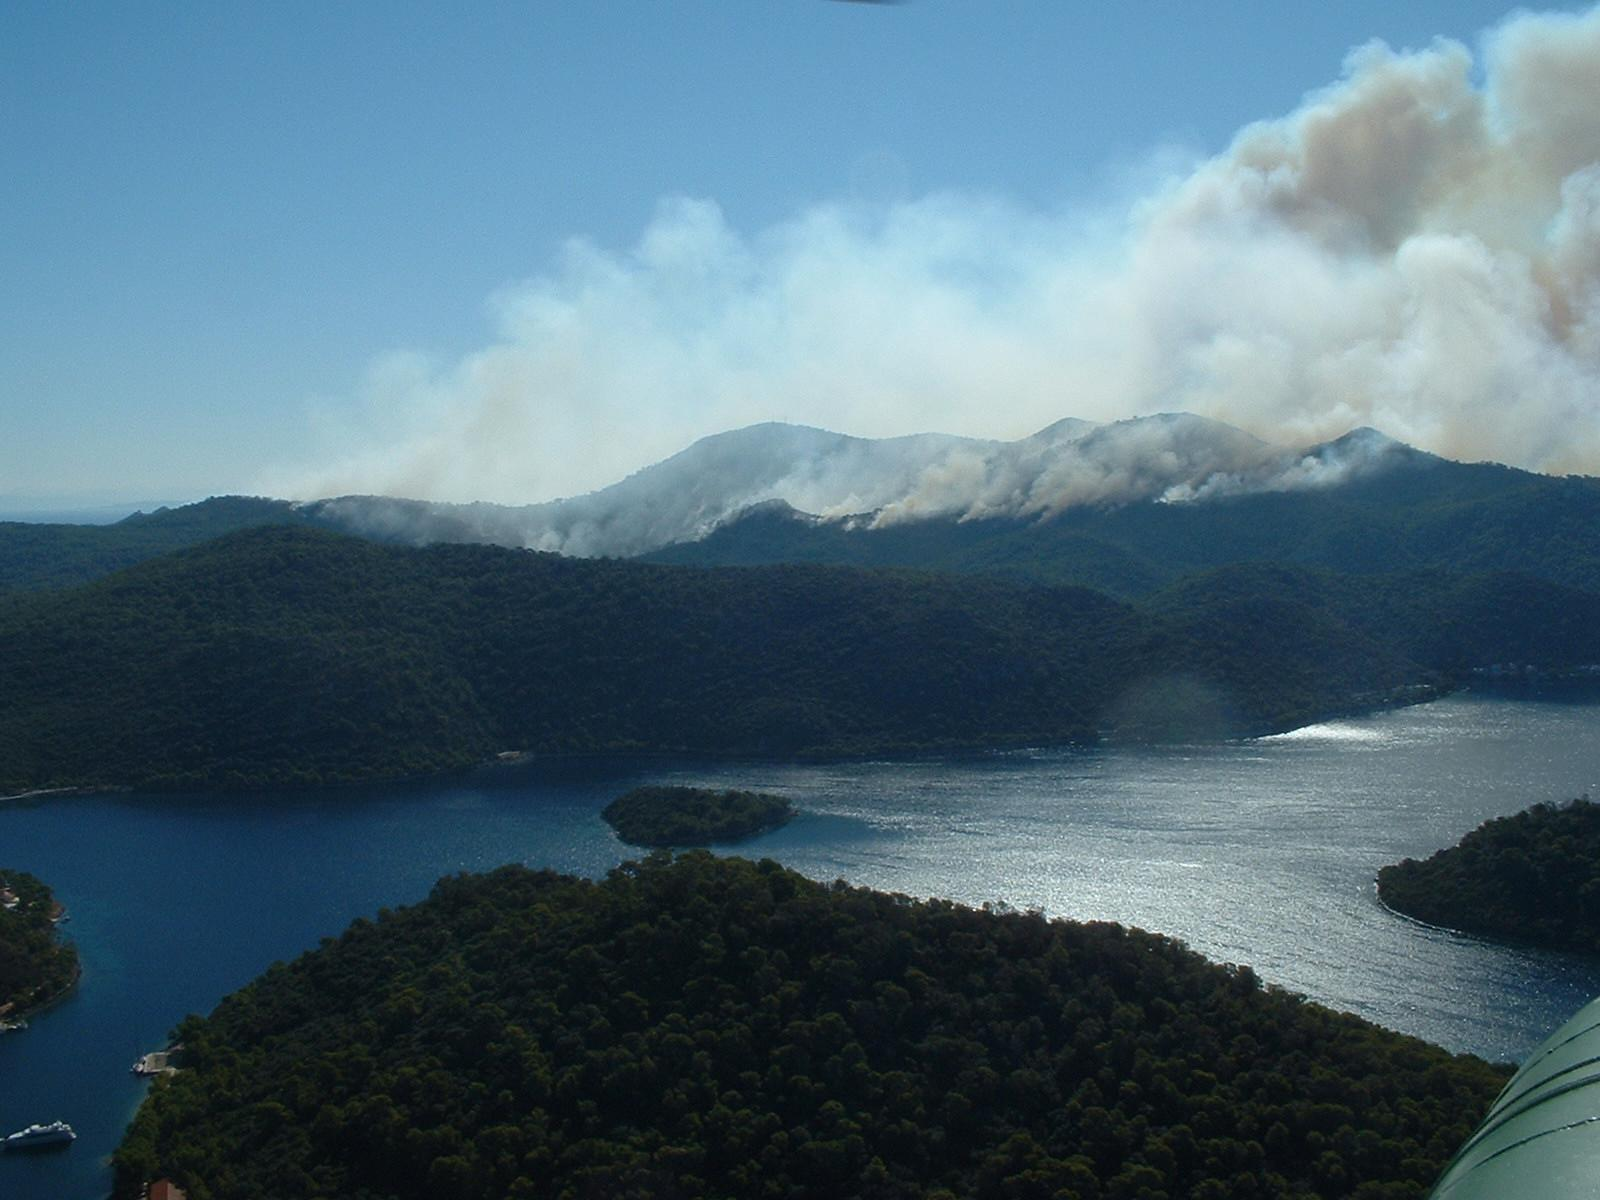Smoke: (1071, 10, 1586, 500), (336, 185, 1060, 490)
